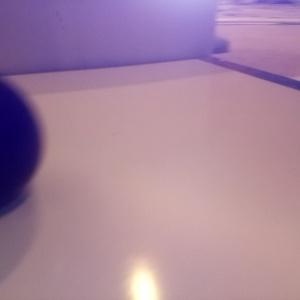dead_ball: (1, 74, 42, 204)
